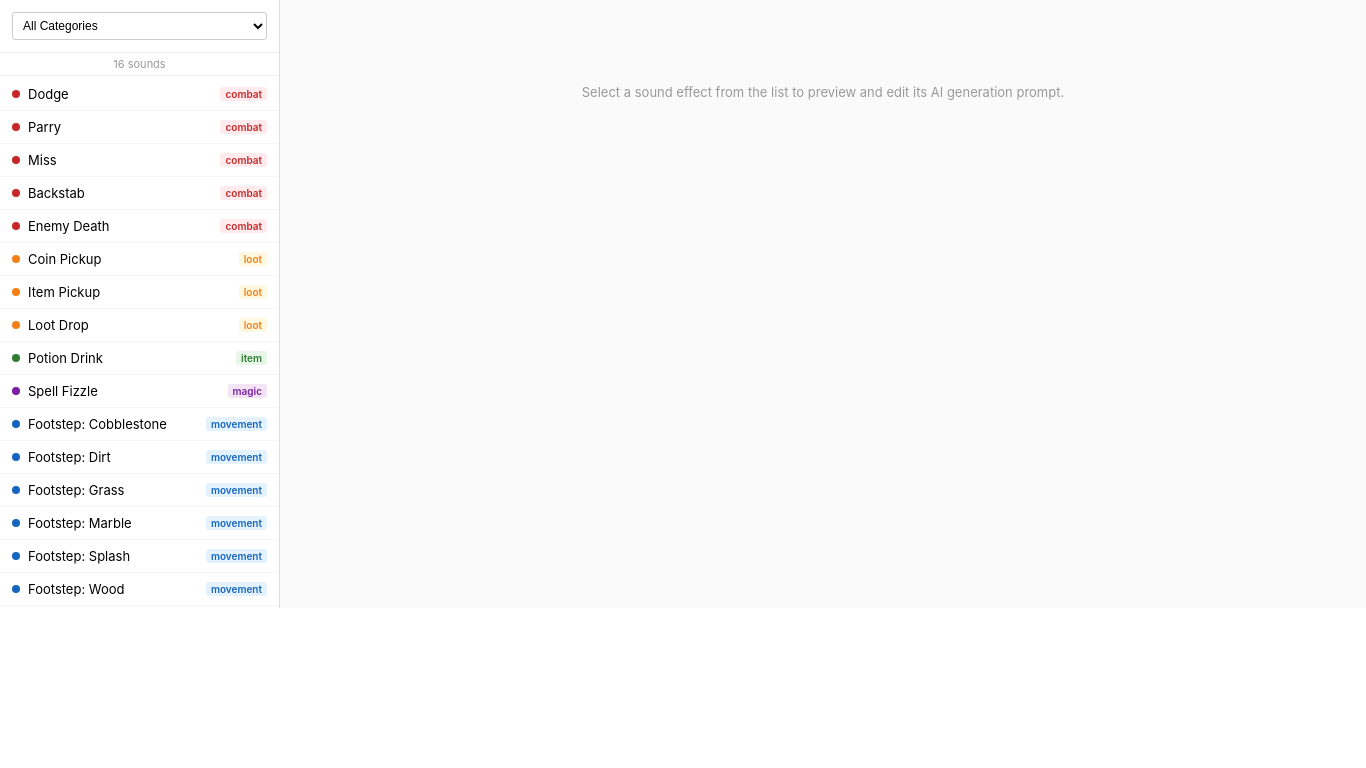
Test: DefaultSfxEditor › detail panel has SfxPreview with sound ID input
Check: the text "16 sounds" is shown, box [0,53,279,76]
Click the text "Parry" at (45, 127), box [28,119,61,135]
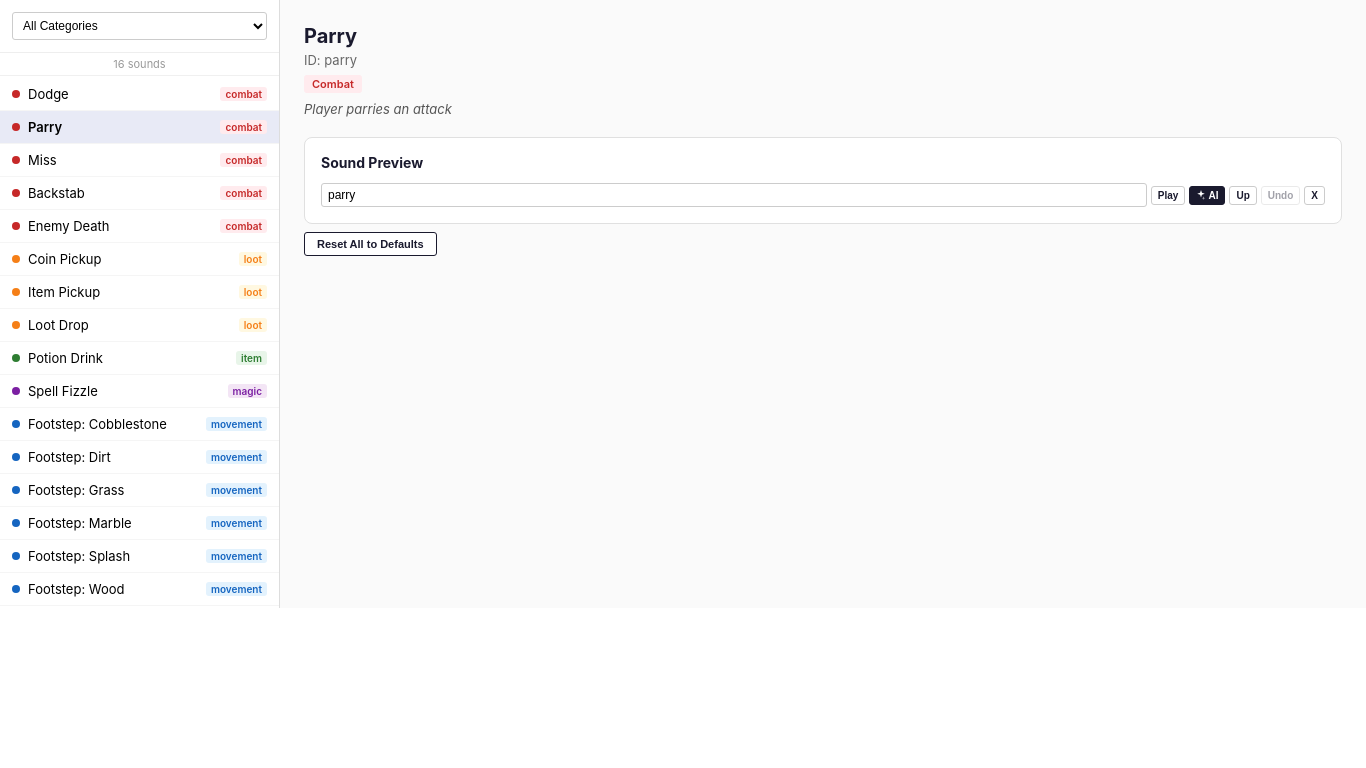
Check: the field showing "parry" is shown, box [321,183,1147,207]
